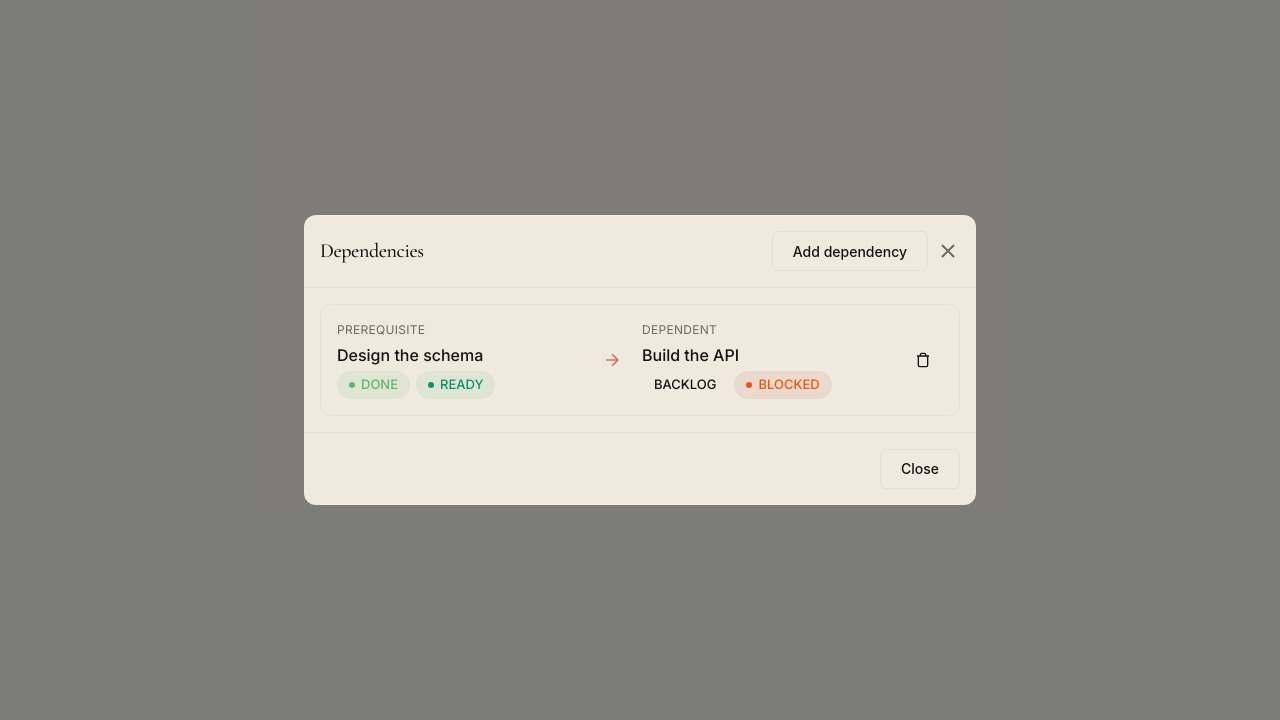
it: DependencyList removal confirmation › removing an edge does not delete it on the first click
Click the 3rd button: (923, 360) [903,346,943,374]
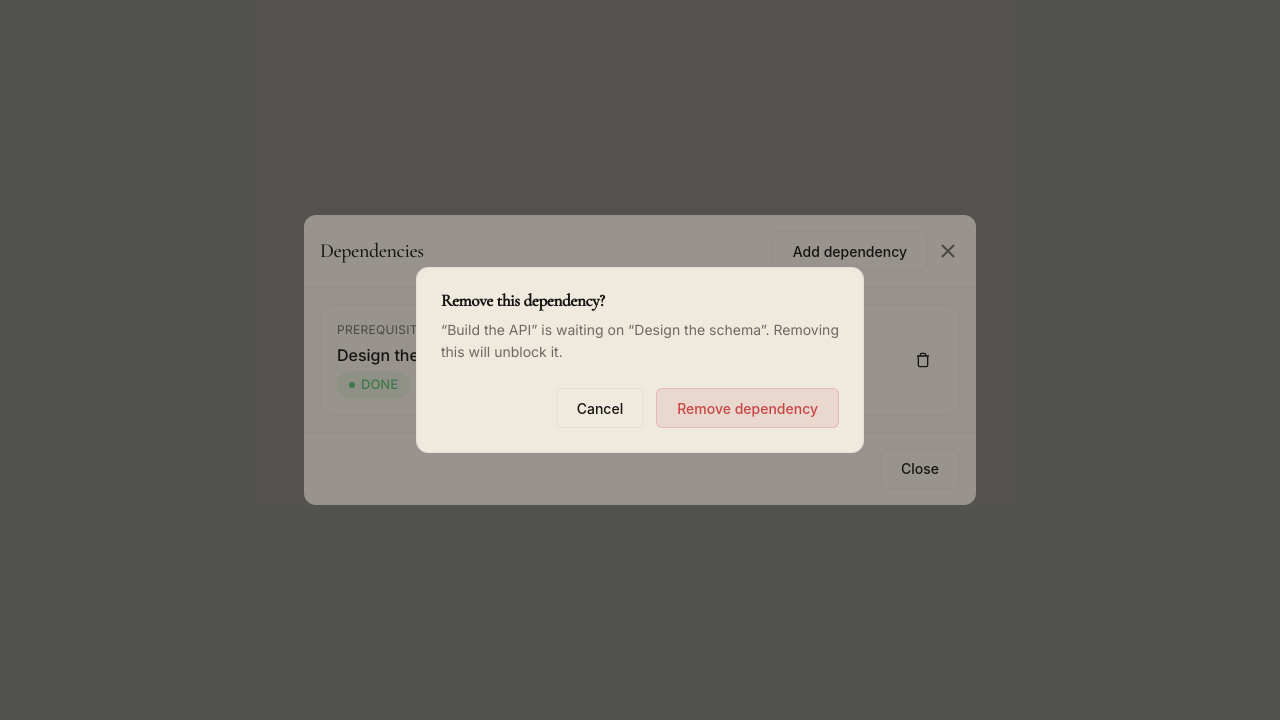
Expected: the dialog is shown, [416,267,864,453]
